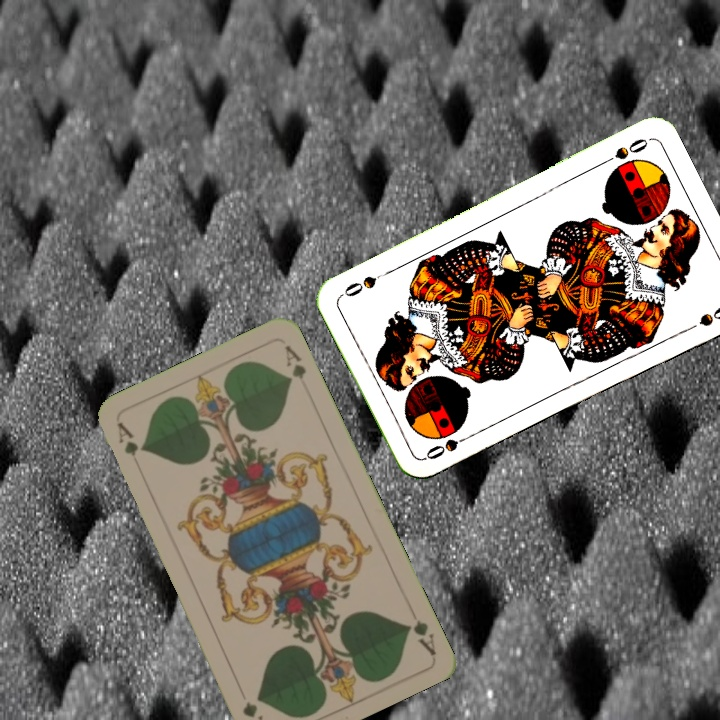GA: (401, 615, 438, 658), (113, 418, 141, 459)
SO: (597, 134, 652, 168), (421, 429, 476, 462)
